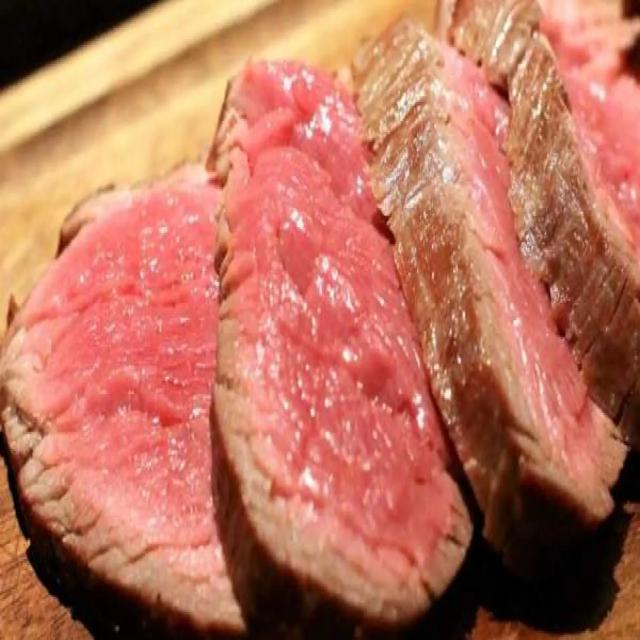carne de res: (13, 2, 636, 636)
